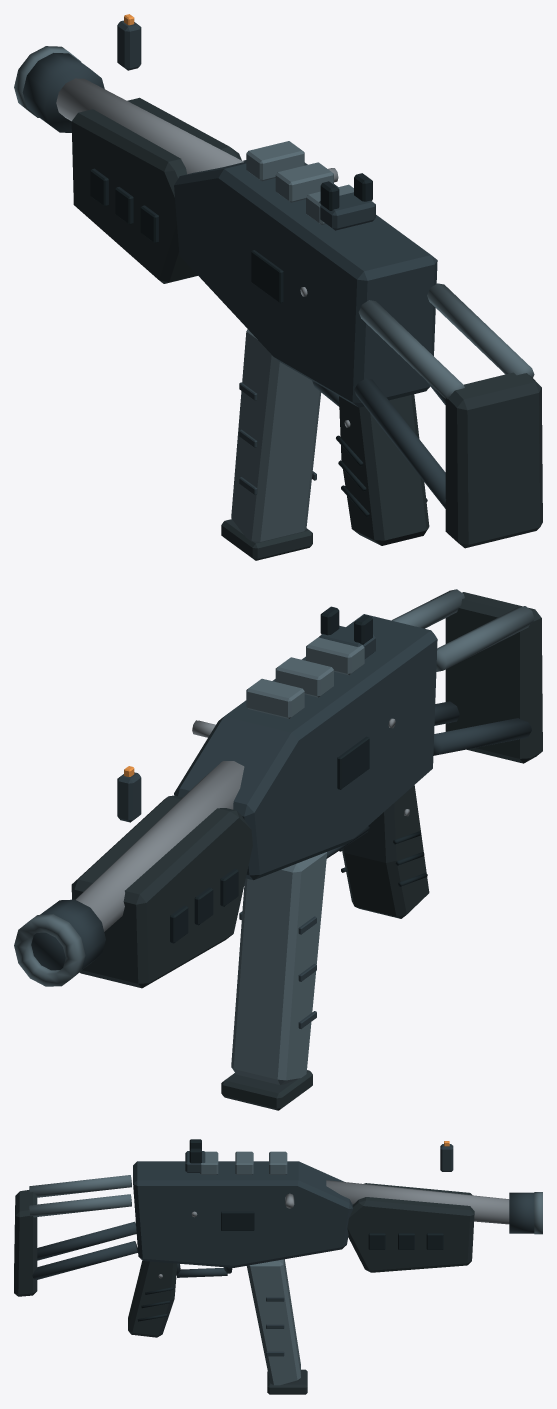
The model's file is WpnSmg.glb.
3 renders of one model, top to bottom at view 1: azimuth 30°, elevation 25°; view 2: azimuth 150°, elevation 25°; view 3: azimuth 270°, elevation 25°, orthographic. The views are drawn at different scales.
Visible parts, largest first — view 1: WpnSmg; view 2: WpnSmg; view 3: WpnSmg.
Boxes of the visible parts, x1,y1,x2,y2 form: WpnSmg: (14, 14, 542, 560); WpnSmg: (14, 589, 542, 1110); WpnSmg: (14, 1139, 542, 1394).
Bounding box in the file's own units: 0.104 × 0.3695 × 0.7209.
